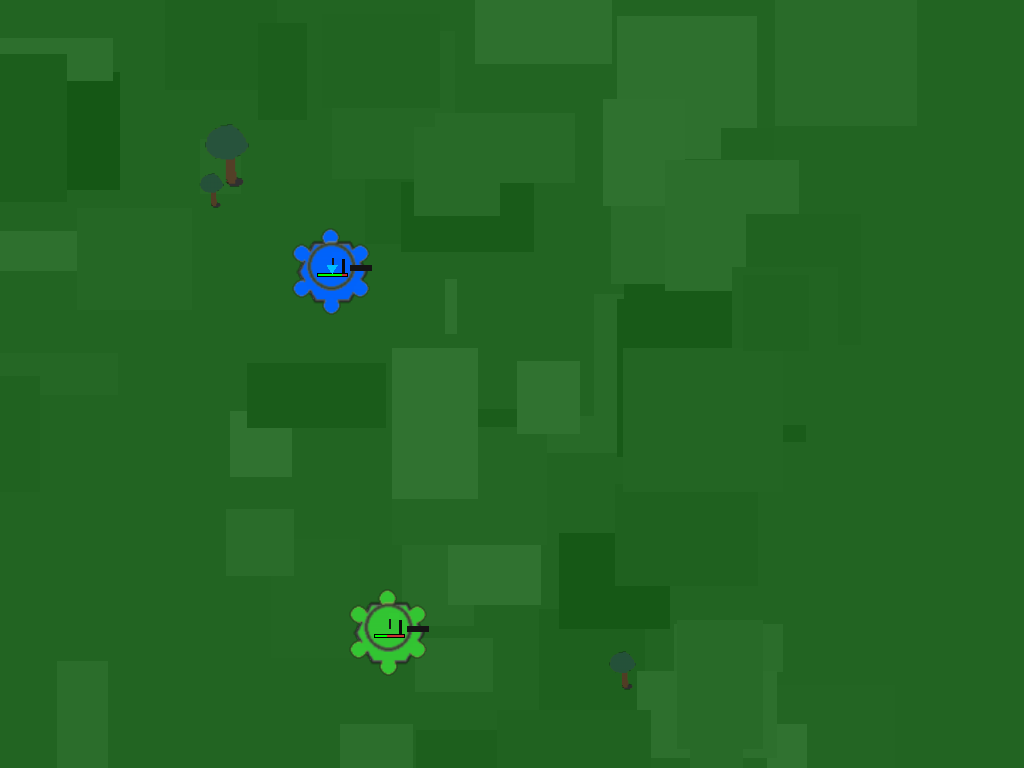Bunker: (346, 590, 431, 675), (289, 229, 374, 314)
